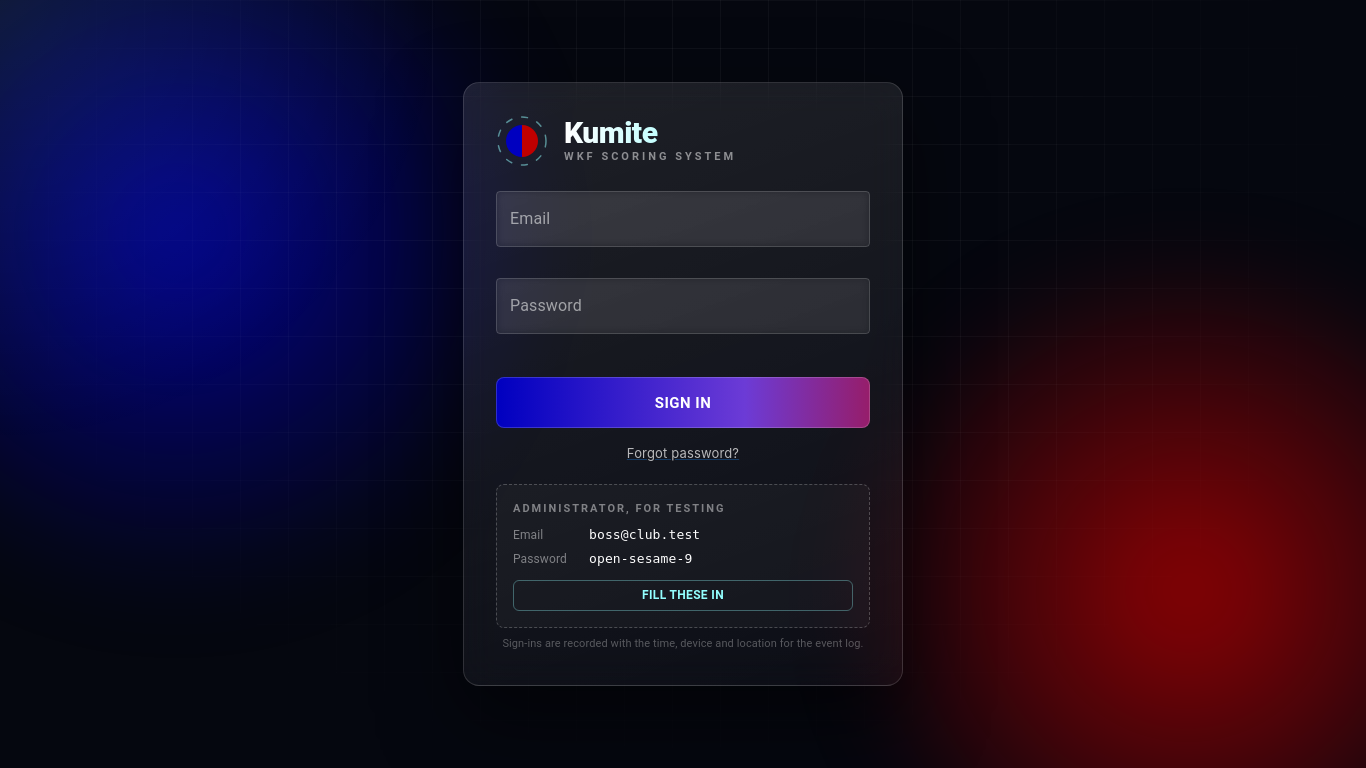
Test: Login › tells someone the service is unreachable, not that their password is wrong
The width and height of the screenshot is (1366, 768).
Step 1. Type "ref@club.test" into the field labelled "Email" → [683, 219], box [496,191,870,247]
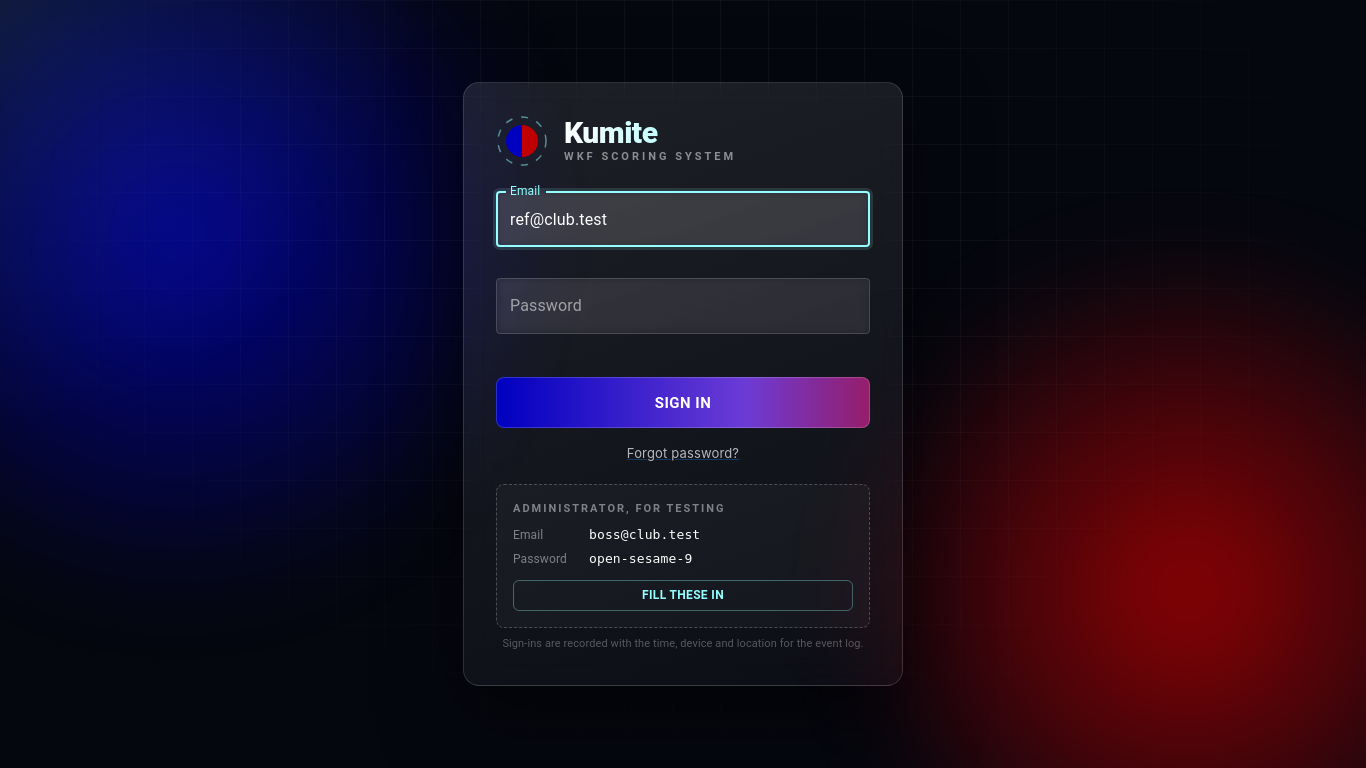
Step 2. Type "correct horse" into the password field labelled "Password" → [683, 306], box [496,278,870,334]
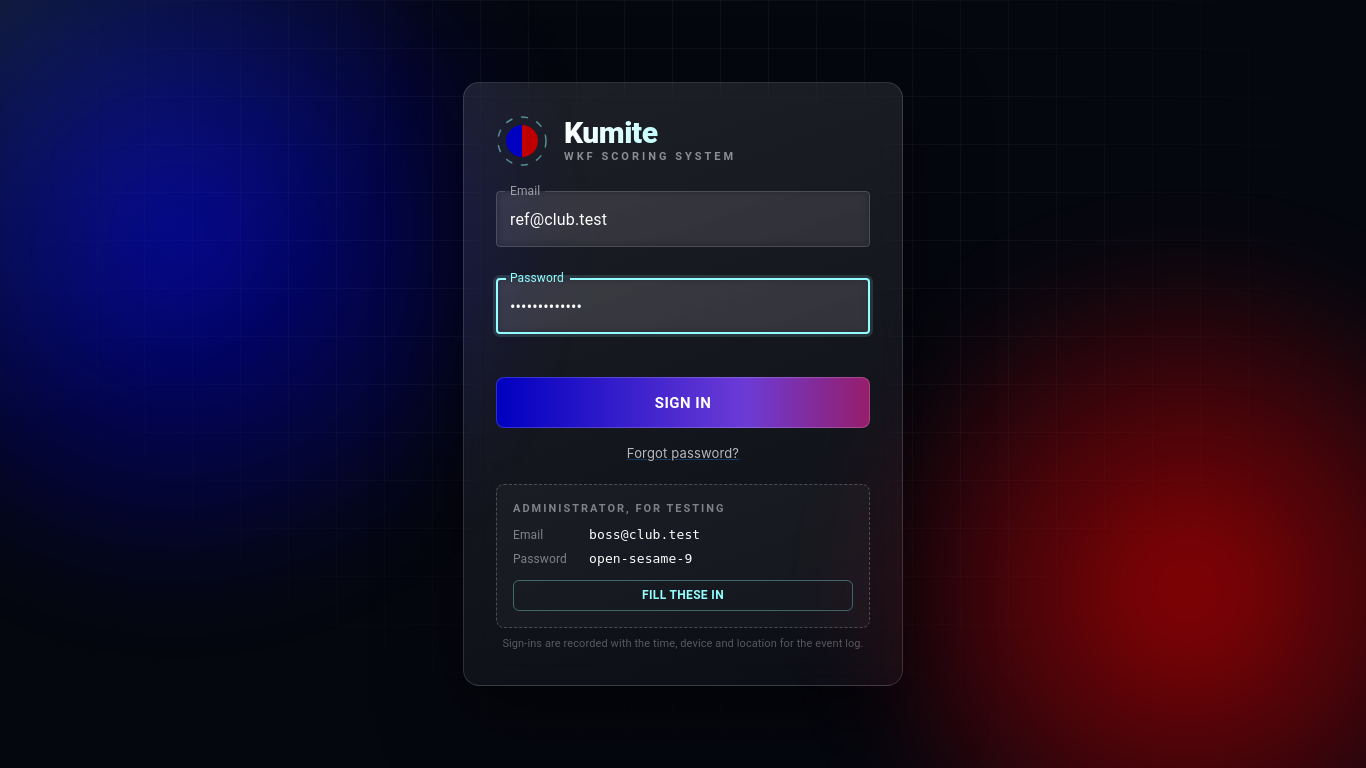
Step 3. Click the button "Sign in" → [683, 402], box [496,377,870,428]
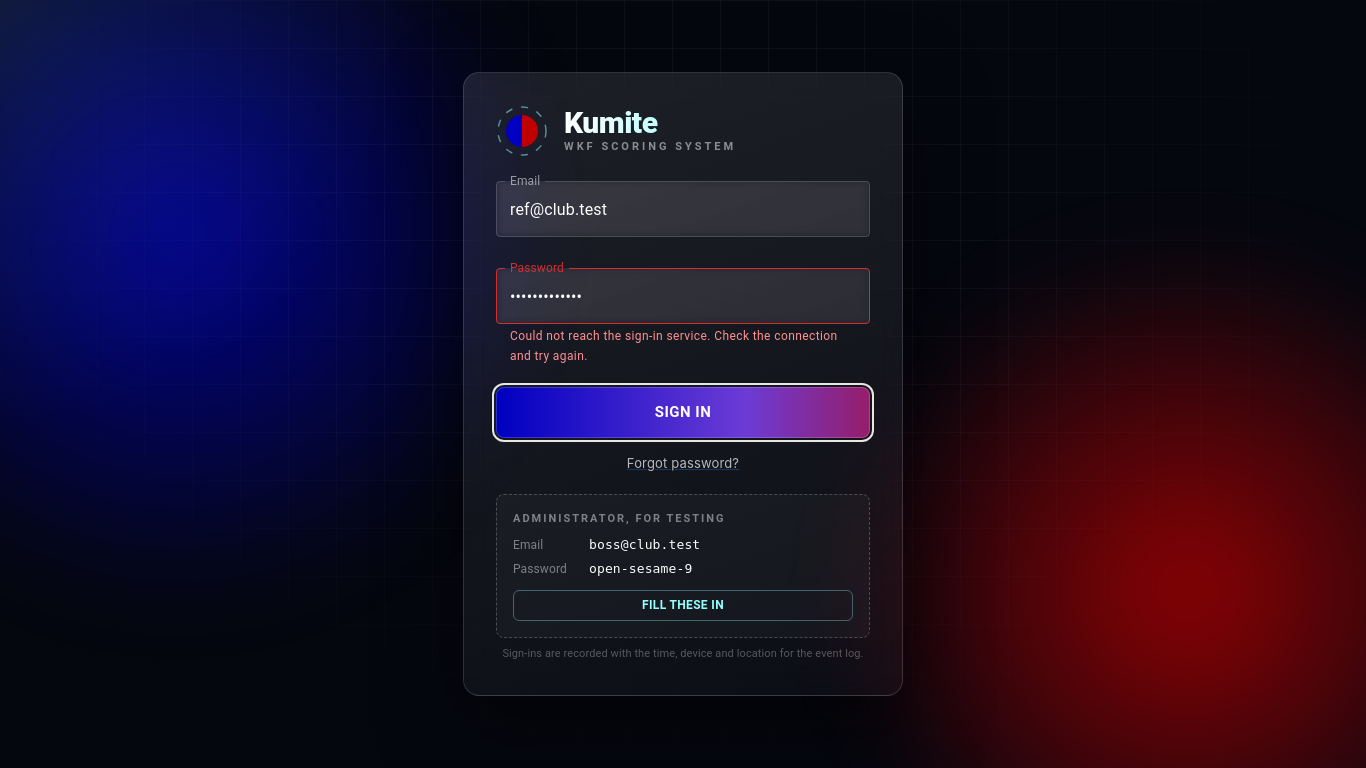
Expected: the text "Could not reach the sign-in service" is shown, [510,329,838,363]
